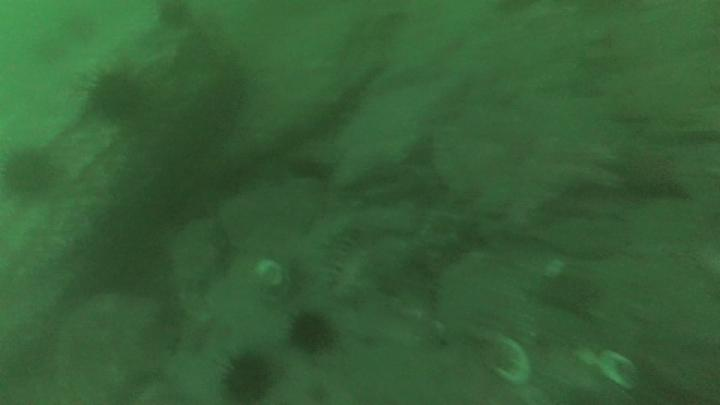echinus: (91, 74, 139, 121), (226, 356, 270, 403), (6, 152, 51, 196), (289, 313, 331, 353), (287, 158, 333, 184)
holothurian: (317, 228, 356, 284)
